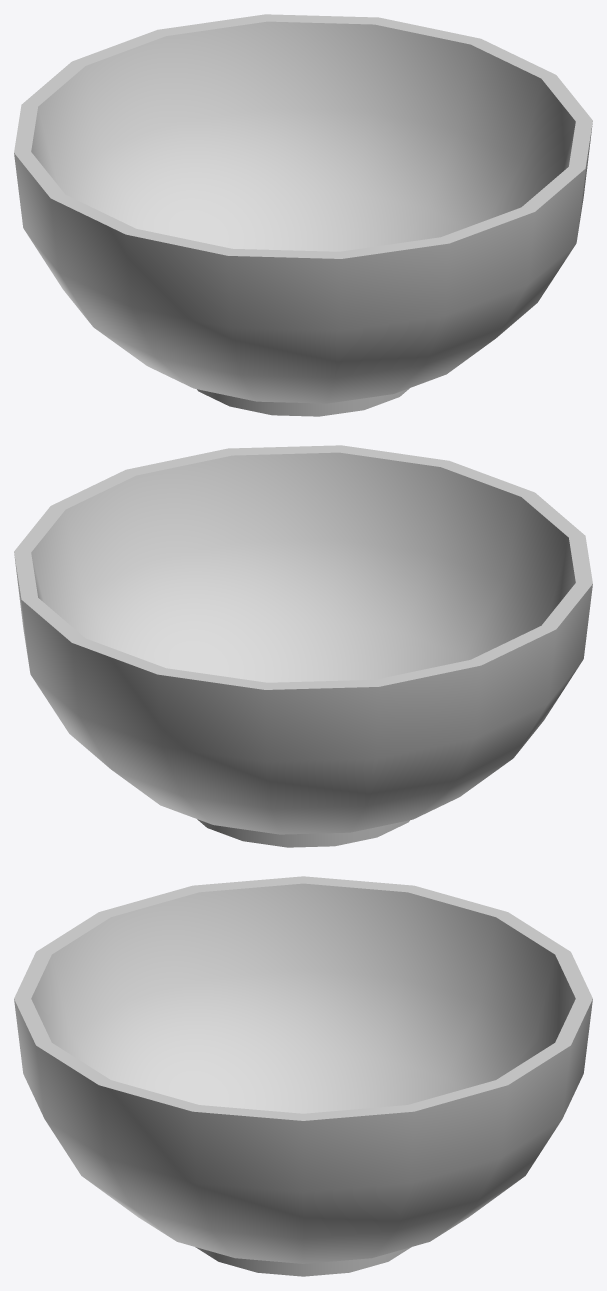
File: FruitBowl_01.fbx
3 renders of one model, top to bottom at view 1: azimuth 30°, elevation 25°; view 2: azimuth 150°, elevation 25°; view 3: azimuth 270°, elevation 25°, orthographic.
Visible parts, largest first — view 1: FruitBowl_01; view 2: FruitBowl_01; view 3: FruitBowl_01.
Part boxes in pixels (x1,y1,x2,y2): FruitBowl_01: (14, 14, 592, 416); FruitBowl_01: (14, 445, 592, 847); FruitBowl_01: (14, 876, 592, 1276).
Size of the model in its own units: 0.1415 by 0.0612 by 0.1415.
